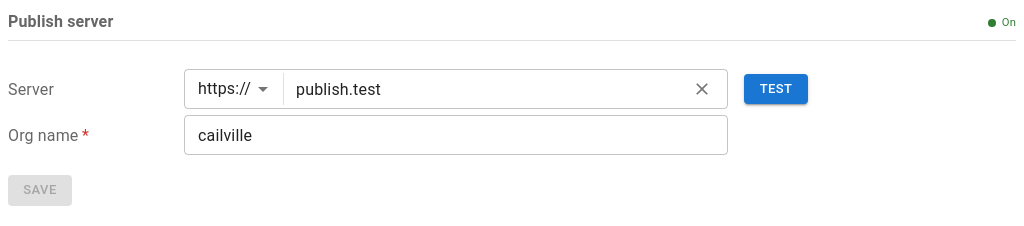
it: PublishSettings › should turn publishing off when the server is cleared and saved
The image size is (1024, 226).
Expected: the text "On" is shown, [988,13,1016,33]
Click the button named "Clear publish server" at (702, 89), box [687,74,717,104]
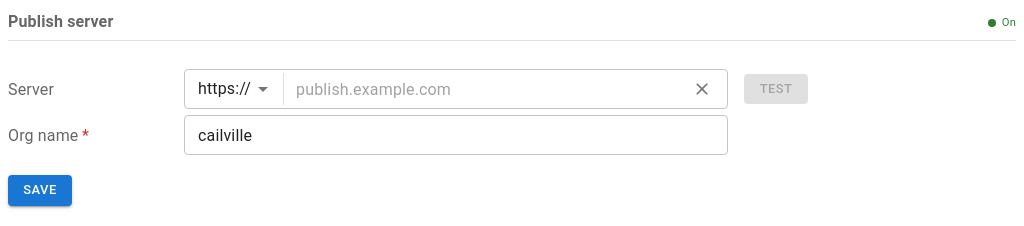
Click the button with aria-label "Save publishing settings" at (40, 190), box [8,175,72,206]
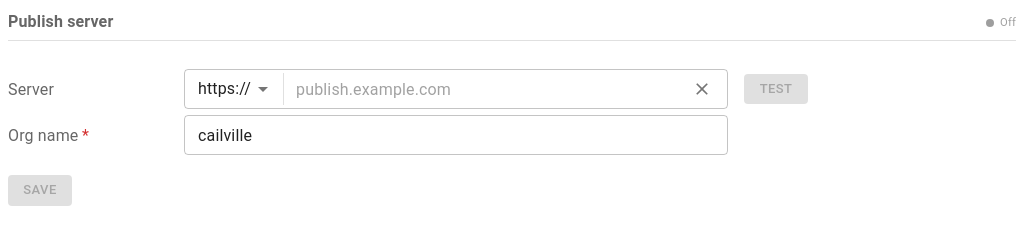
Expected: the text "Off" is shown, [986,13,1016,33]
